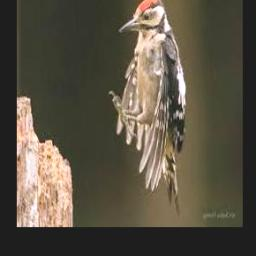Woodpecker: (109, 0, 187, 213)
